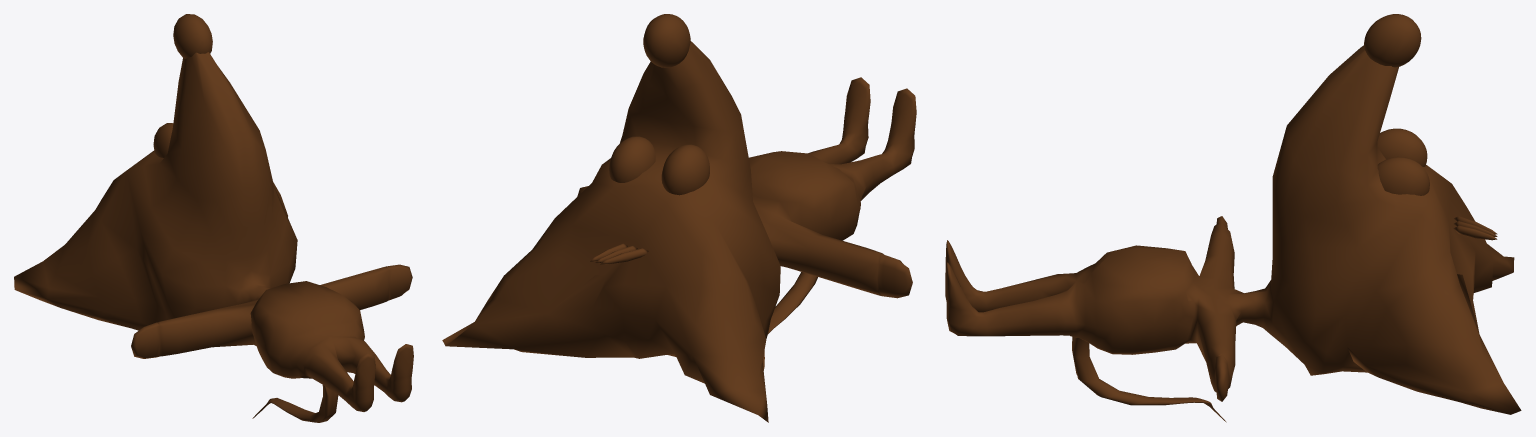
File: Mouse_Mesh_SM.FBX
3 views of the same model, side by side, from view 1: azimuth 30°, elevation 25°; view 2: azimuth 150°, elevation 25°; view 3: azimuth 270°, elevation 25° (orthographic). The views are drawn at different scales.
Visible parts, largest first — view 1: Mouse_Mesh; view 2: Mouse_Mesh; view 3: Mouse_Mesh.
Boxes of the visible parts, bbox=[...] form: Mouse_Mesh: bbox=[14, 14, 413, 422]; Mouse_Mesh: bbox=[442, 14, 916, 422]; Mouse_Mesh: bbox=[945, 14, 1521, 422].
Size of the model in its own units: 8.76 by 13.08 by 10.36.
